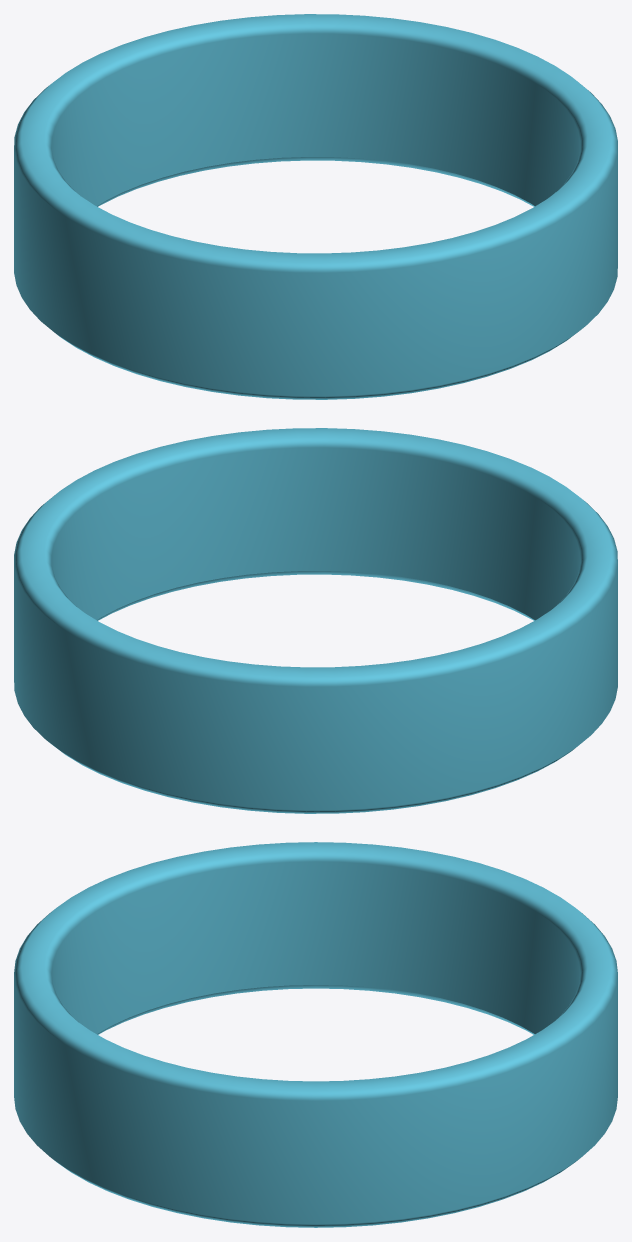
The picture shows the model from 3 angles, top to bottom: view 1: azimuth 30°, elevation 25°; view 2: azimuth 150°, elevation 25°; view 3: azimuth 270°, elevation 25°; orthographic projection.
Parts seen in each view (by area): view 1: seal_body; view 2: seal_body; view 3: seal_body.
Boxes of the visible parts, bbox=[...] form: seal_body: bbox=[14, 14, 617, 399]; seal_body: bbox=[14, 428, 617, 813]; seal_body: bbox=[14, 842, 617, 1227].
Bounding box in the file's own units: 0.0508 × 0.0127 × 0.0508.
